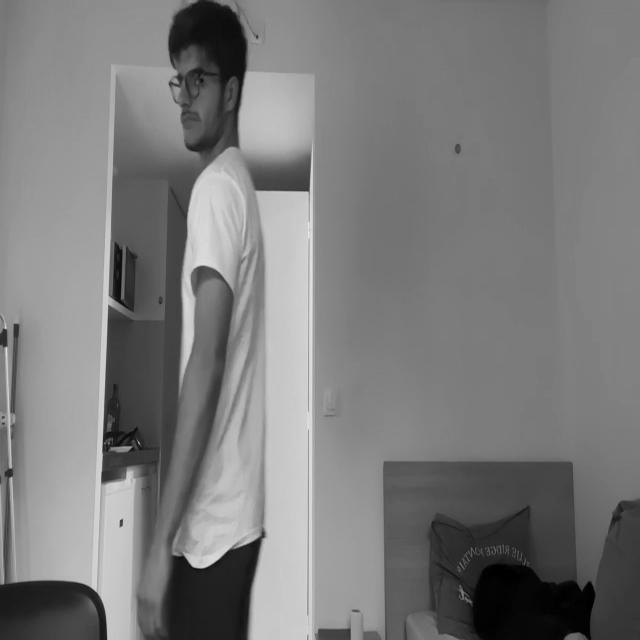elbow: (191, 335, 229, 398)
hand: (136, 539, 174, 635)
shoulder: (191, 166, 244, 255)
